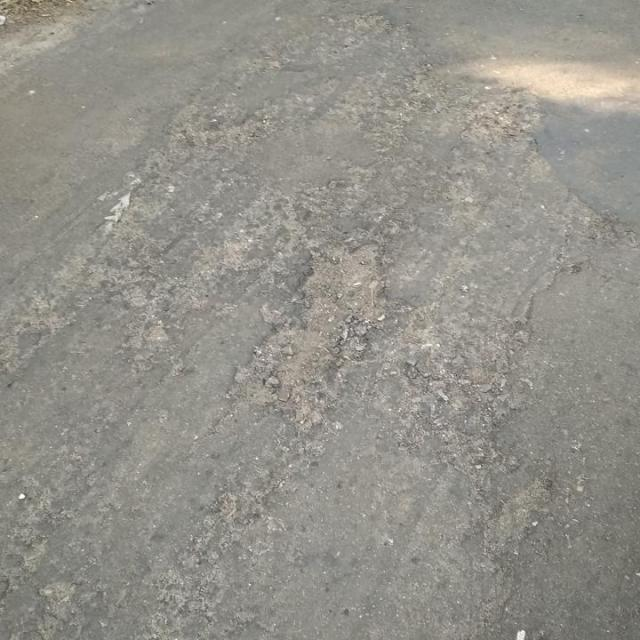Pothole: (225, 233, 396, 421)
